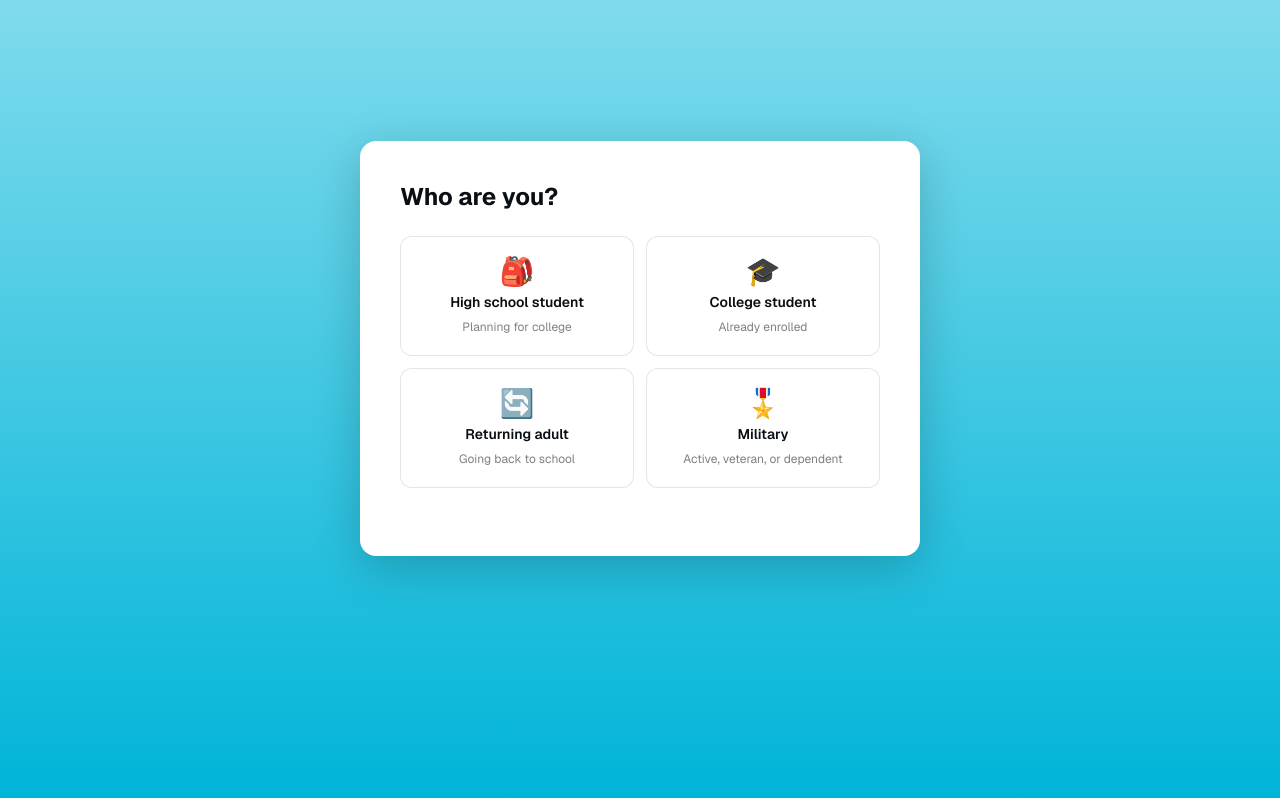
Test: Profile page › first-gen checkbox is checked by default
Click the text "High school student" at (517, 302), box top-left (450, 292), bottom-right (584, 310)
(page scrolled)
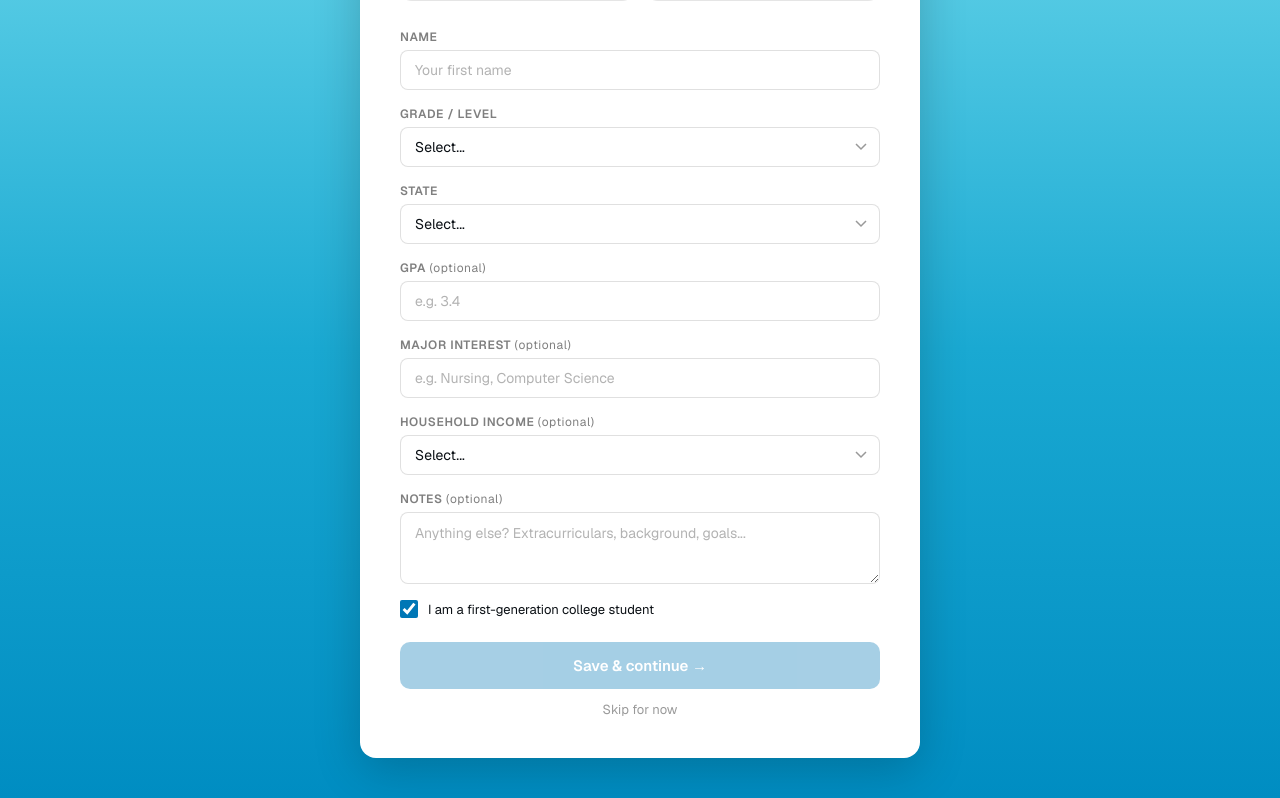
Result: the checkbox is checked at top-left (400, 600), bottom-right (418, 618)
